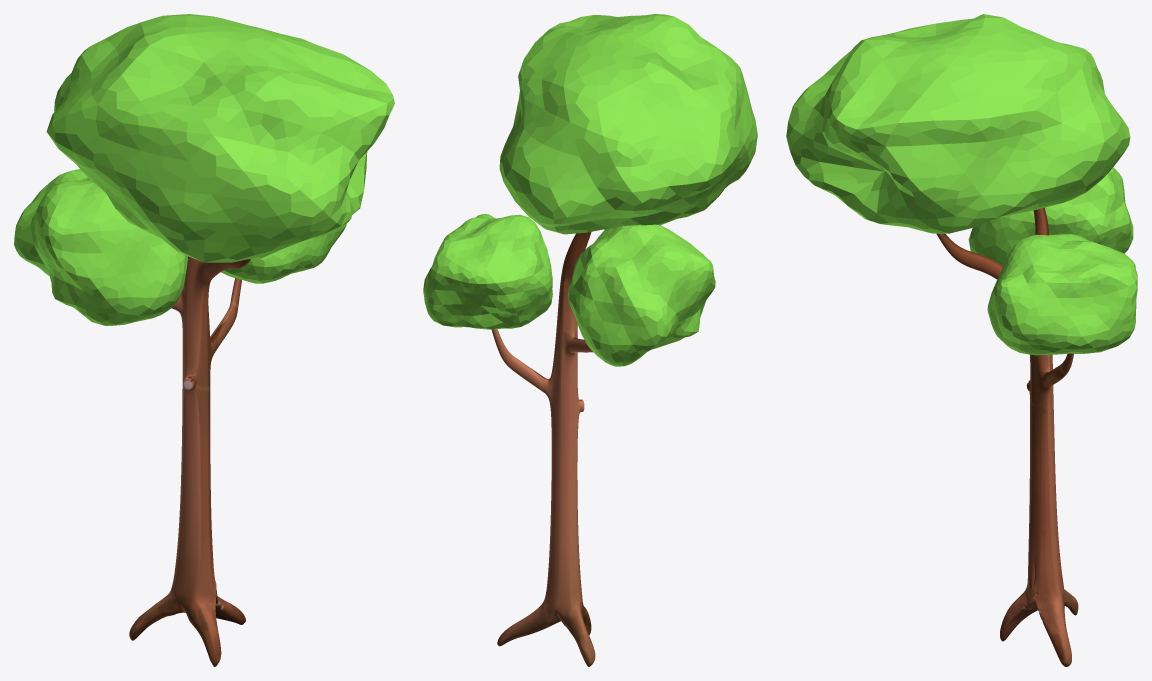
File: BurrowTree 1.fbx
The picture shows the model from 3 angles, left to right: view 1: azimuth 30°, elevation 25°; view 2: azimuth 150°, elevation 25°; view 3: azimuth 270°, elevation 25°; orthographic projection. The views are drawn at different scales.
Visible parts, largest first — view 1: Icosphere.005, Icosphere.006, Cylinder, Icosphere.007; view 2: Icosphere.005, Icosphere.006, Cylinder, Icosphere.007; view 3: Icosphere.005, Icosphere.007, Cylinder, Icosphere.006.
Boxes of the visible parts, <box> form: Icosphere.005: <box>46,14,394,262</box>; Icosphere.006: <box>14,169,187,325</box>; Cylinder: <box>129,256,250,666</box>; Icosphere.007: <box>221,223,346,283</box>; Icosphere.005: <box>499,14,757,234</box>; Icosphere.006: <box>567,224,715,366</box>; Cylinder: <box>491,229,604,666</box>; Icosphere.007: <box>423,213,552,329</box>; Icosphere.005: <box>786,14,1130,233</box>; Icosphere.007: <box>987,234,1137,355</box>; Cylinder: <box>936,207,1078,666</box>; Icosphere.006: <box>968,167,1133,265</box>.
Size of the model in its own units: 1497 by 3133 by 1672.
